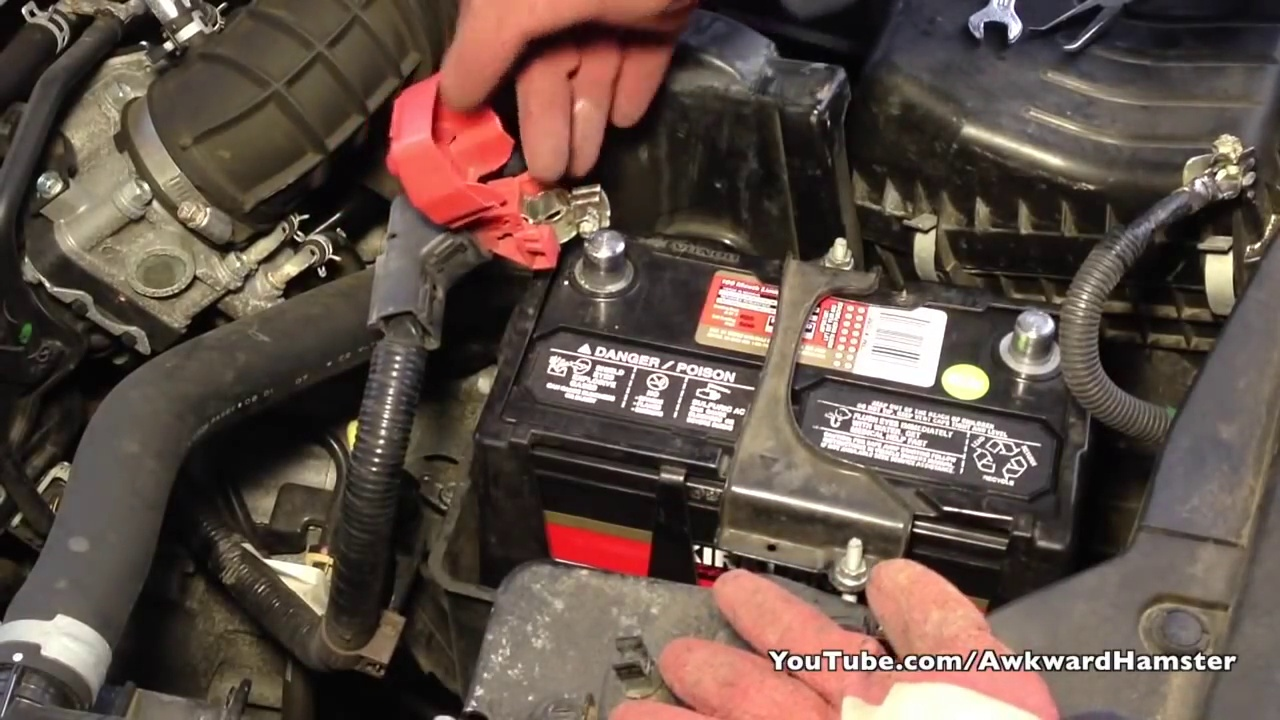battery: (489, 210, 1082, 542)
neg_disconnected: (964, 274, 1077, 396)
pos_disconnected: (383, 115, 666, 313)
pos_touched: (412, 29, 657, 302)
